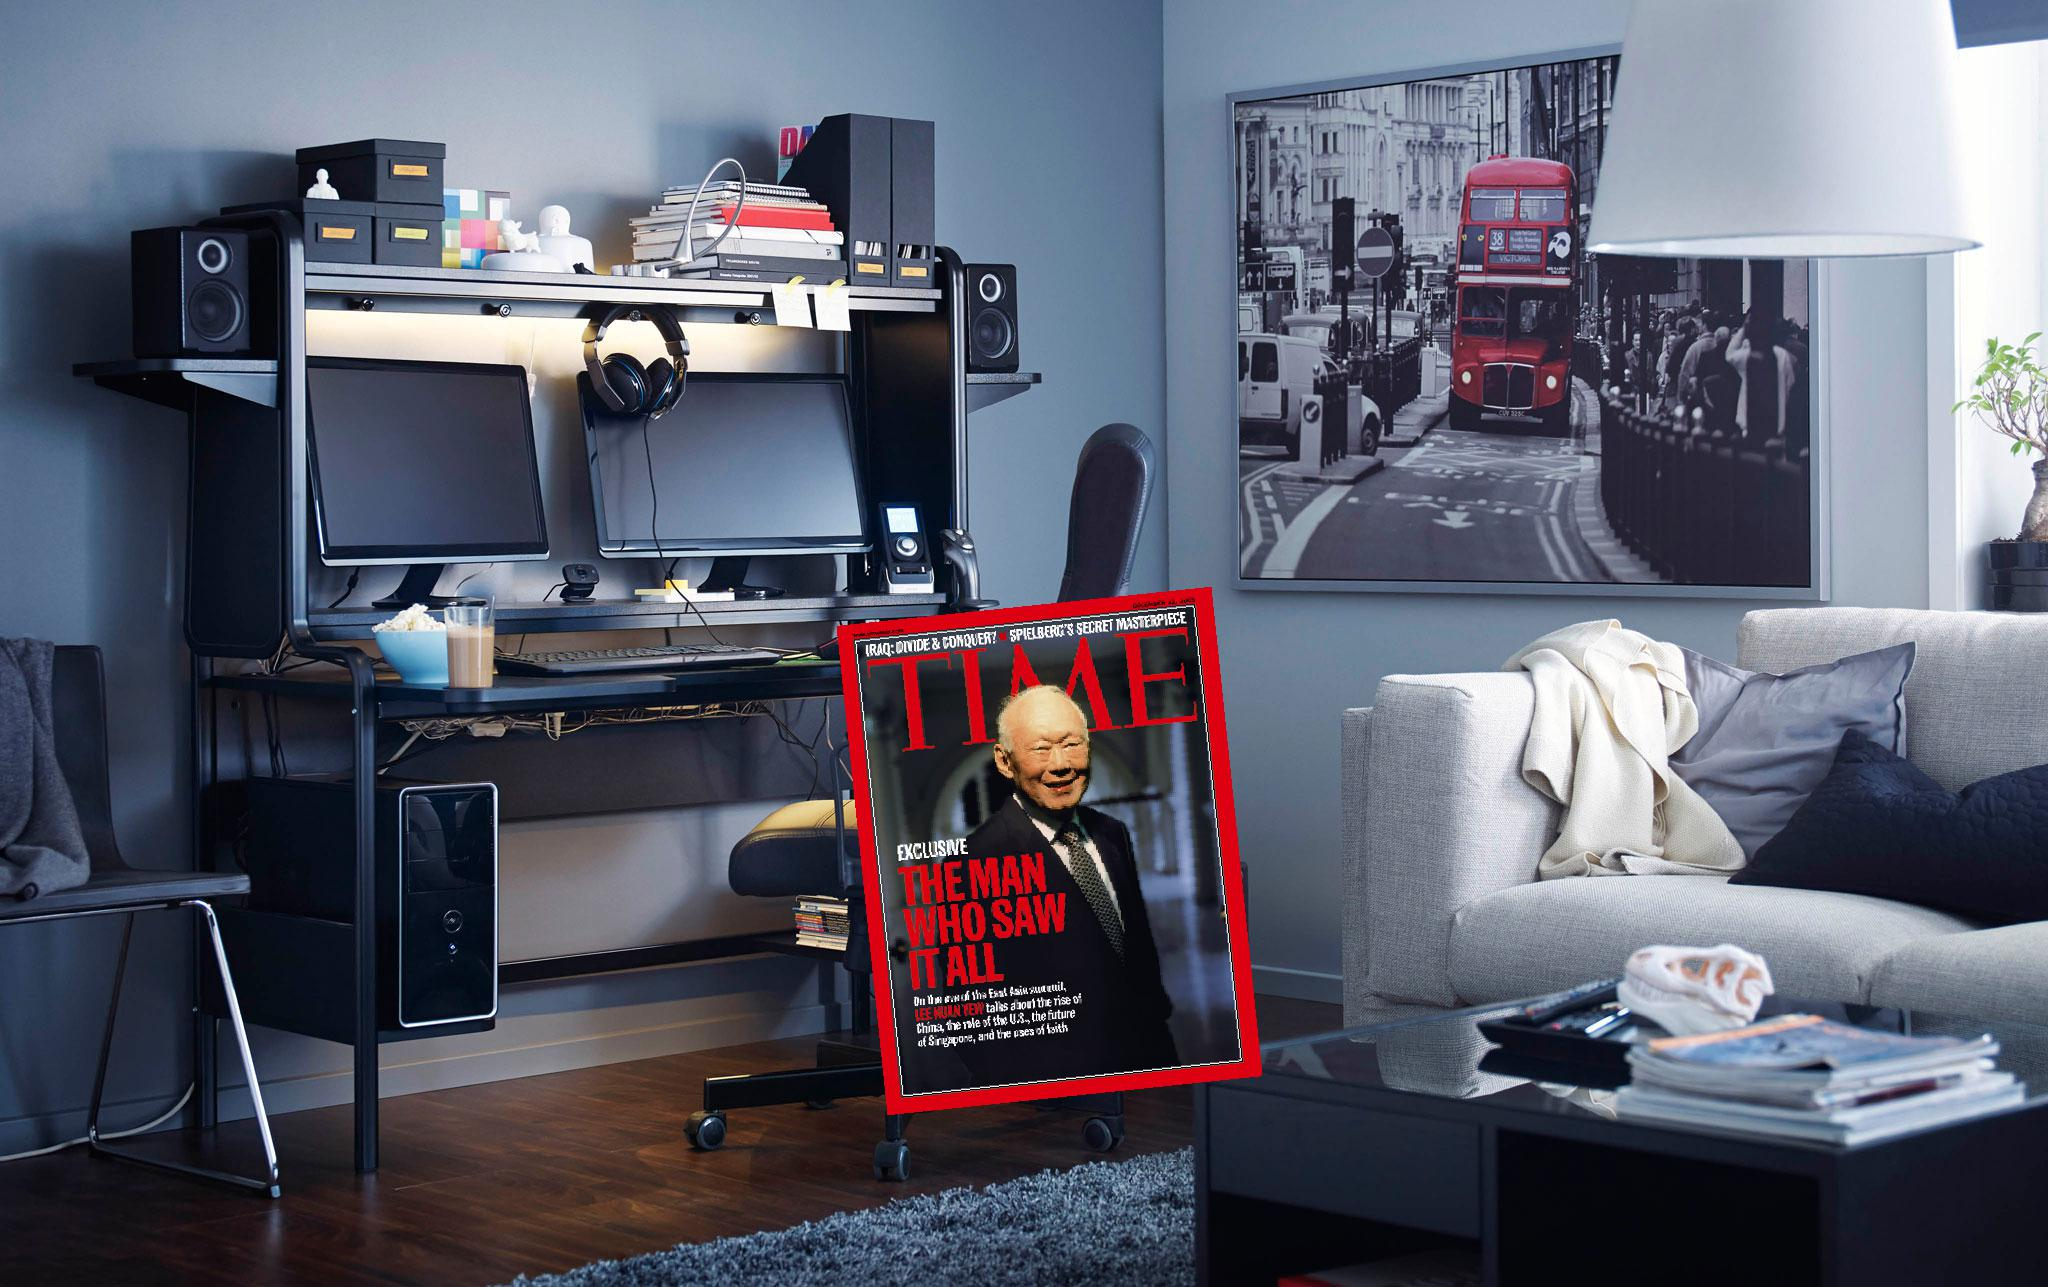times: (828, 577, 1266, 1119)
